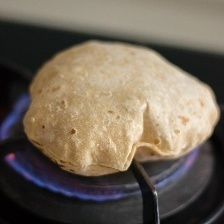roti: (23, 41, 221, 174)
